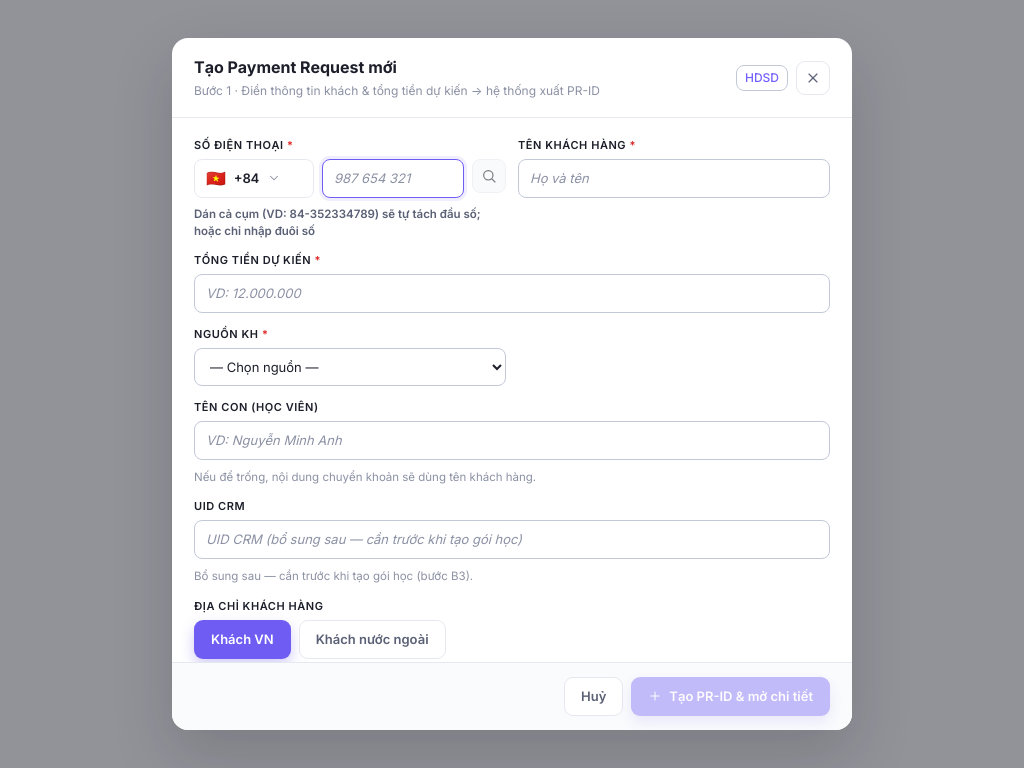
Test case: CreatePaymentRequestModal — UID optional › UID field is NOT required — canSubmit true without UID
Type "0912345678" into the field with placeholder "987 654 321" at (393, 178), box [322,159,464,198]
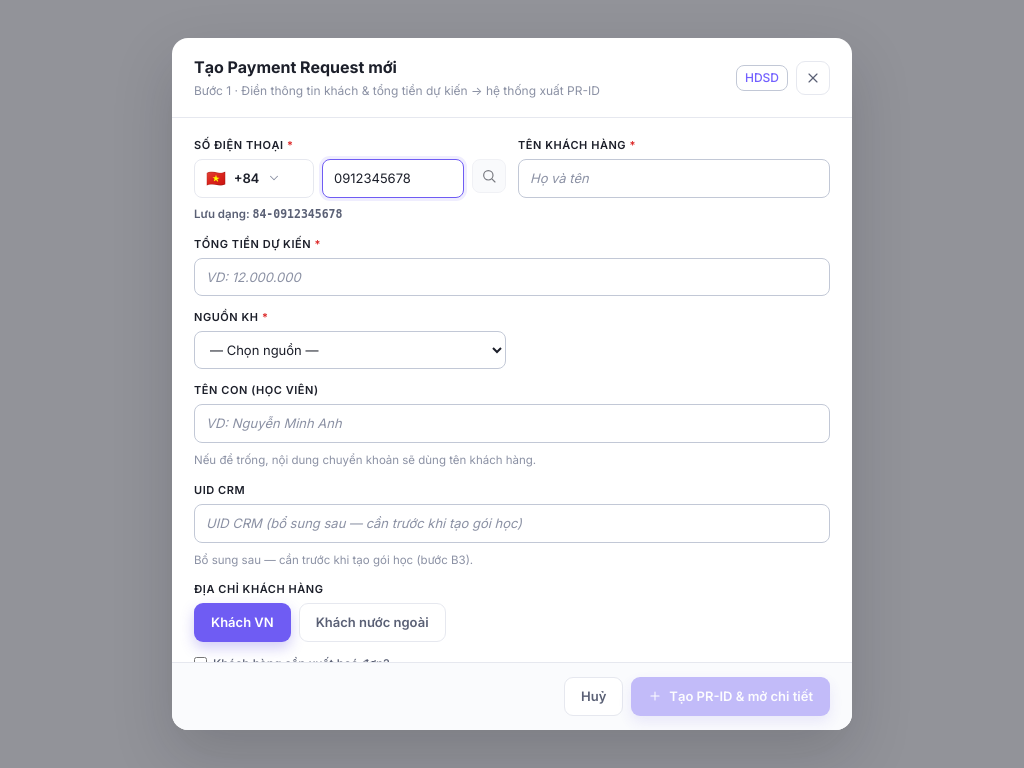
Type "Nguyễn Văn A" into the field with placeholder "Họ và tên" at (674, 178), box [518,159,830,198]
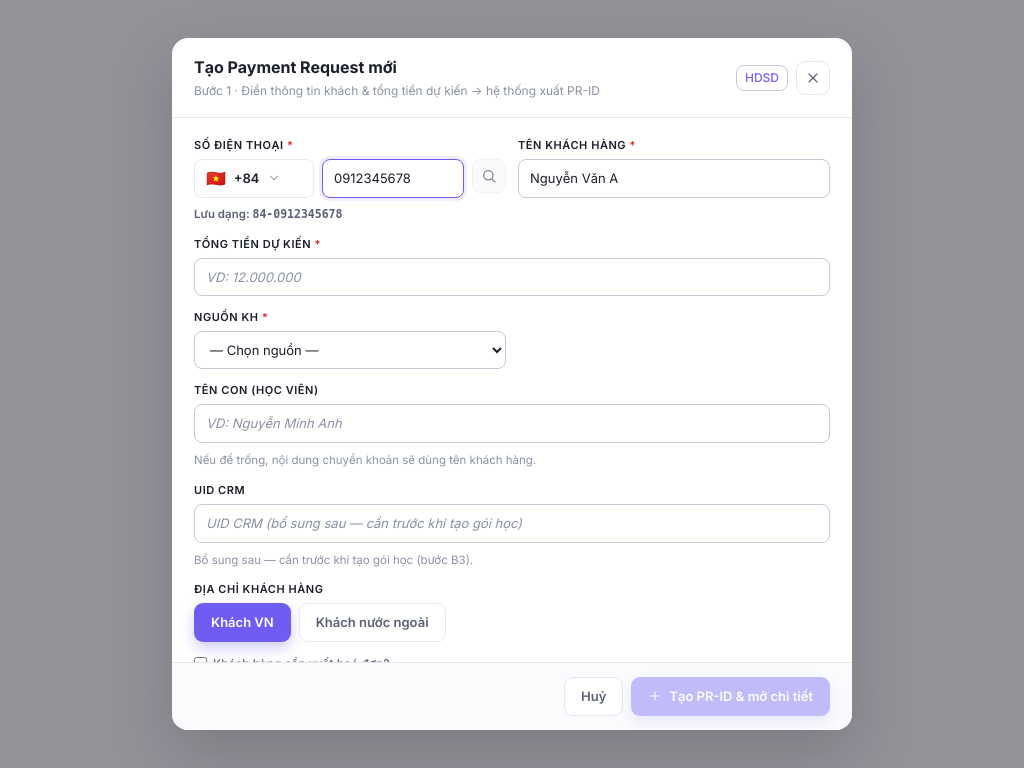
Type "10000000" into the field with placeholder "VD: 12.000.000" at (512, 277), box [194,258,830,296]
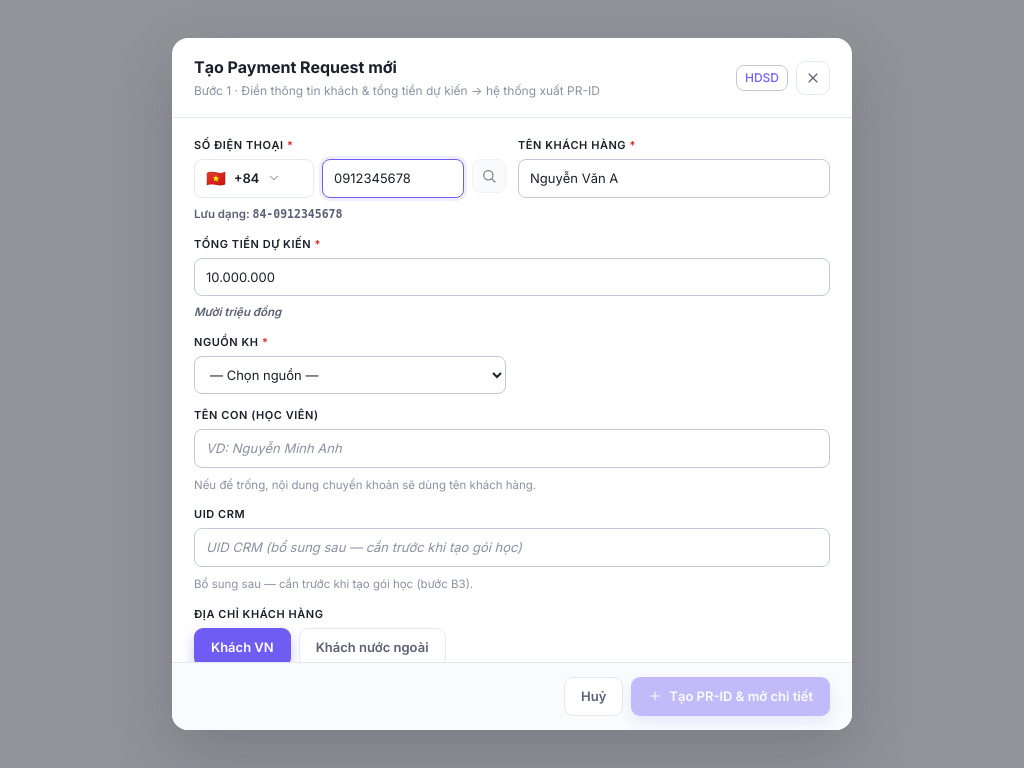
Select "Gia hạn" in the dropdown at (350, 375), box [194,356,506,394]
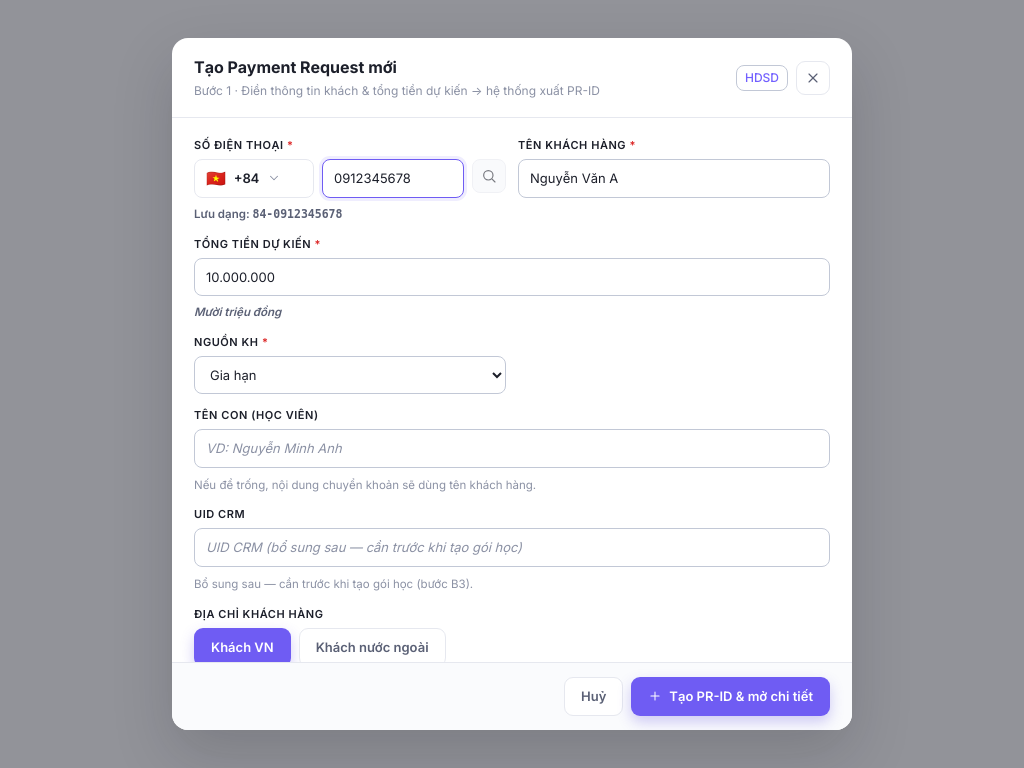
Expected: the button "Tạo PR-ID & mở chi tiết" is enabled, [631,677,830,716]
